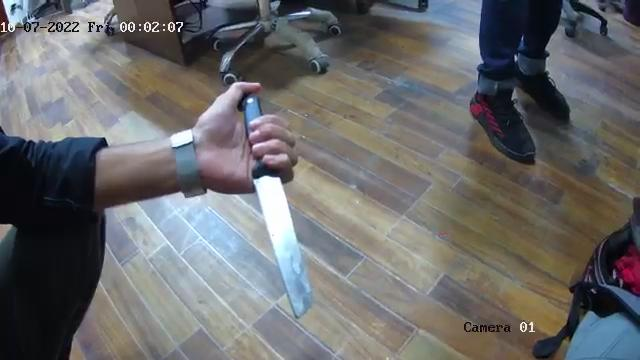knives: (233, 78, 314, 320)
